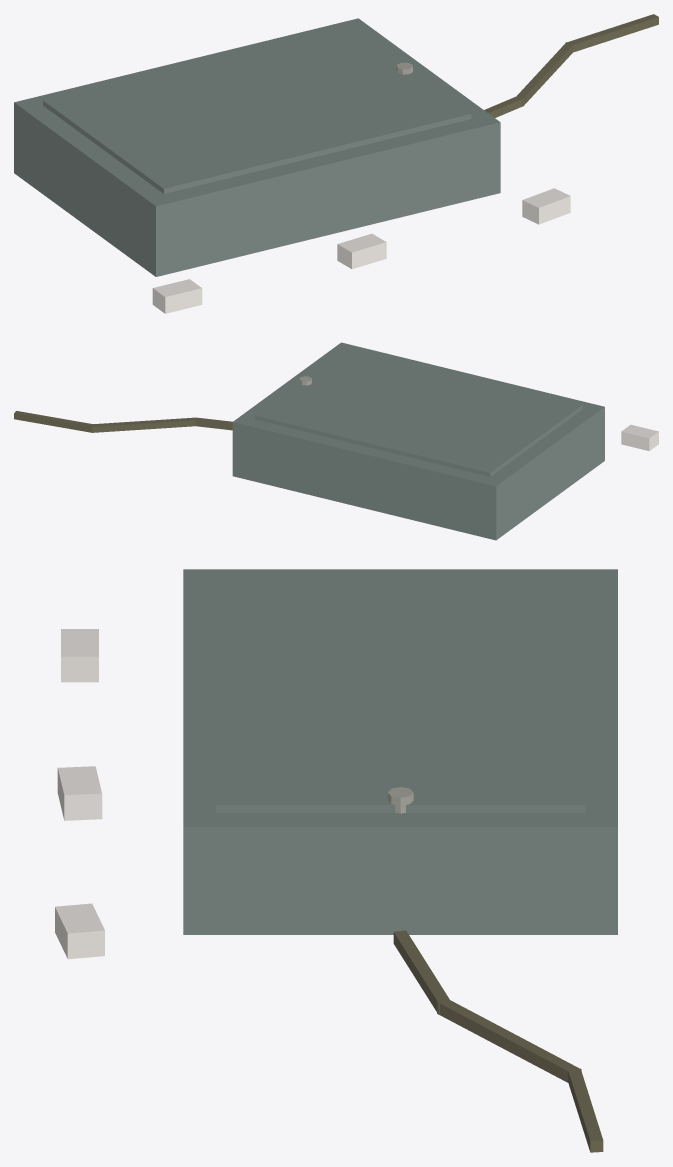
File: SM_CisternaFlexible_v3_SinBorde_LOD0.fbx
3 views of the same model, one above another, from view 1: azimuth 30°, elevation 25°; view 2: azimuth 150°, elevation 25°; view 3: azimuth 270°, elevation 25° (orthographic). The views are drawn at different scales.
Visible parts, largest first — view 1: SM_farp_betera_v3_LOD0; view 2: SM_farp_betera_v3_LOD0; view 3: SM_farp_betera_v3_LOD0.
Part boxes in pixels (x1,y1,x2,y2): SM_farp_betera_v3_LOD0: [14, 14, 658, 313]; SM_farp_betera_v3_LOD0: [14, 342, 658, 540]; SM_farp_betera_v3_LOD0: [55, 569, 617, 1152].
Bounding box in the file's own units: 10.84 × 1.26 × 5.18.
